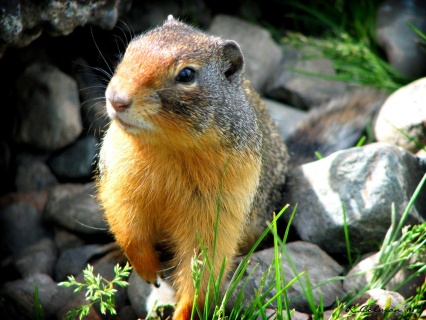Squirrel: (65, 11, 391, 319)
